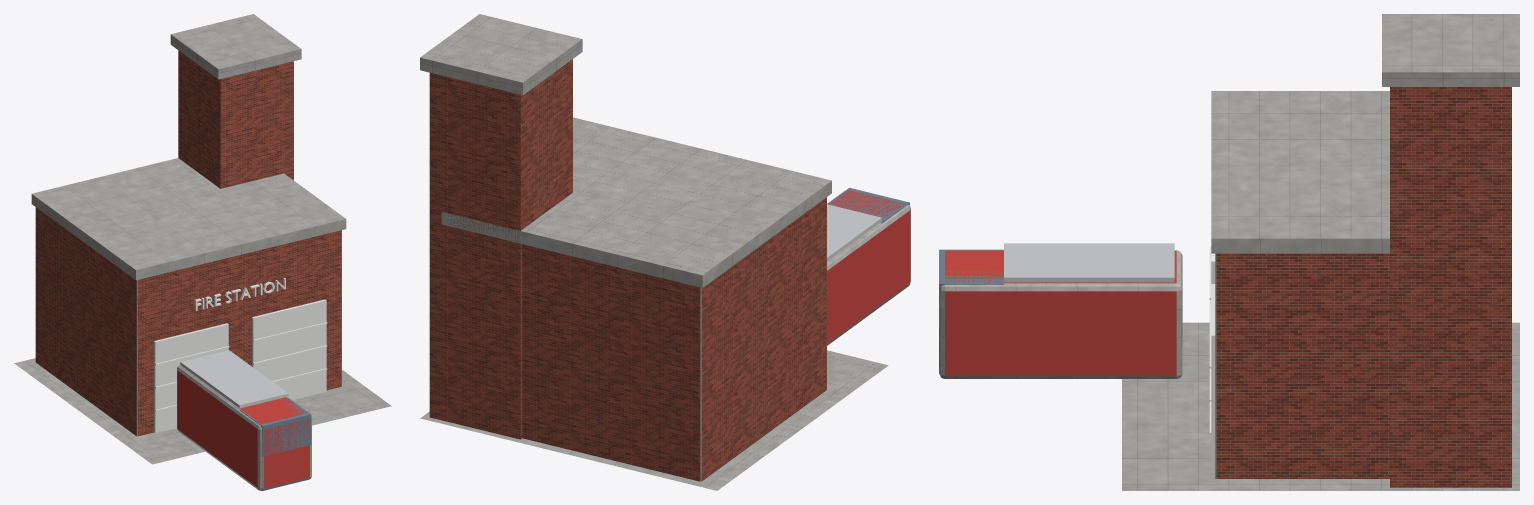
Rendered from fire.gltf.
3 views of the same model, side by side, from view 1: azimuth 30°, elevation 25°; view 2: azimuth 150°, elevation 25°; view 3: azimuth 270°, elevation 25° (orthographic). The views are drawn at different scales.
Parts seen in each view (by area): view 1: fire; view 2: fire; view 3: fire.
Part boxes in pixels (x1,y1,x2,y2): fire: (14, 14, 391, 490); fire: (420, 14, 910, 490); fire: (939, 14, 1519, 490).
Bounding box in the file's own units: 1.96 × 2.28 × 2.86.
Materials: 7 (2 with a texture image).
